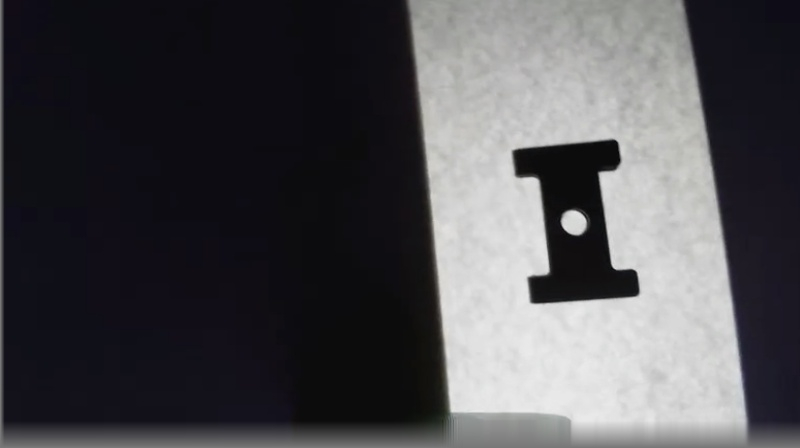O002: (504, 136, 646, 308)
